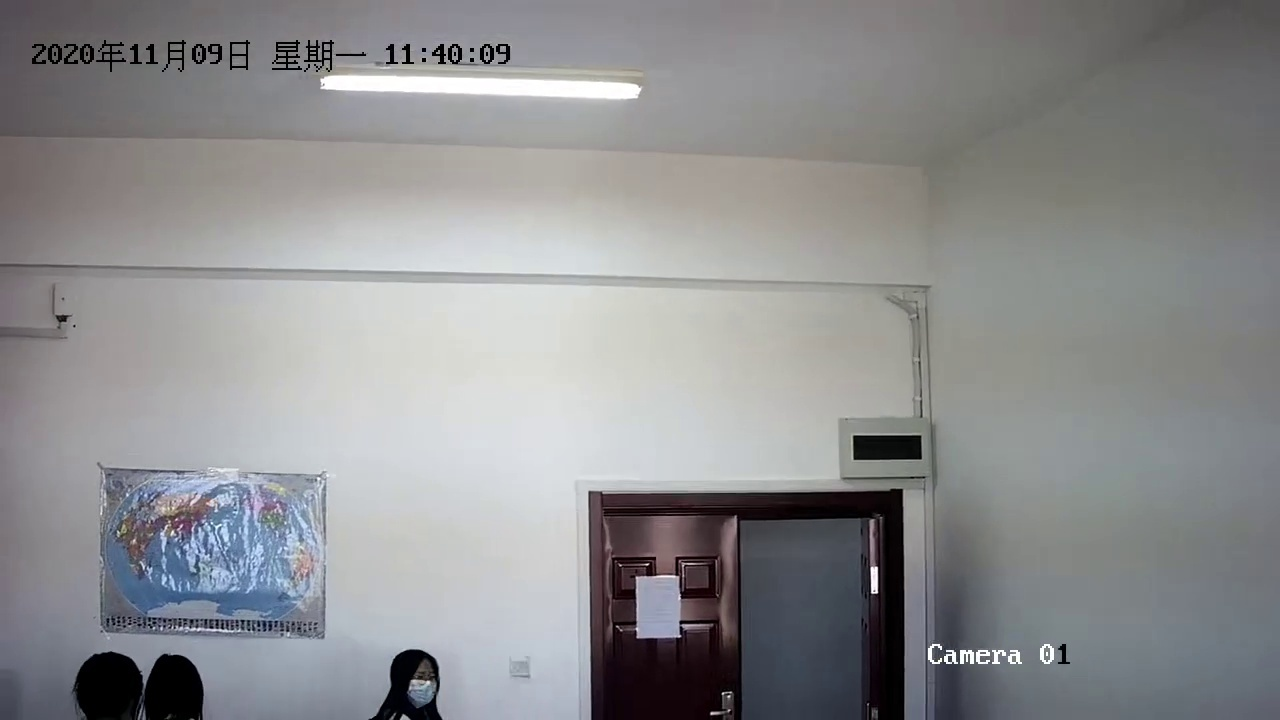mask: (388, 631, 446, 714)
